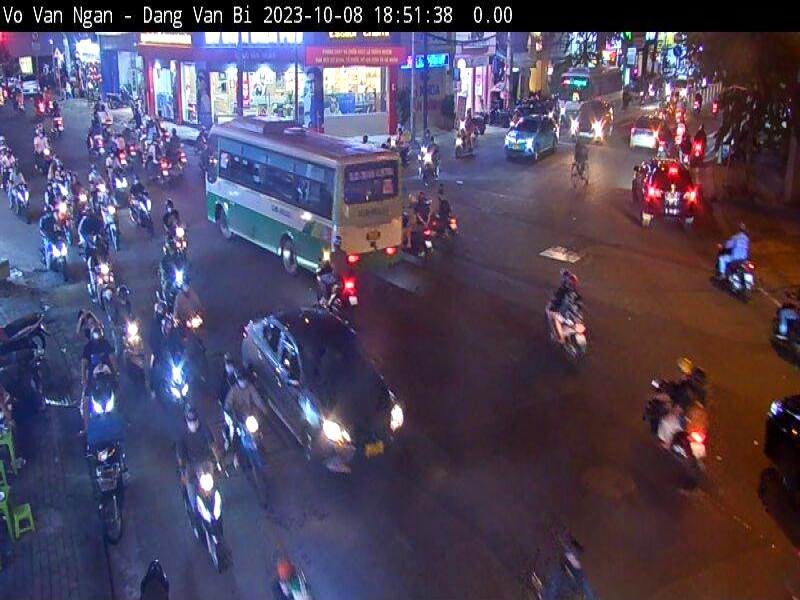bus: (197, 116, 404, 284)
car: (239, 309, 417, 480), (626, 154, 704, 238), (761, 390, 800, 514), (500, 111, 560, 165), (571, 99, 616, 143), (628, 112, 674, 152)
motorcycle: (631, 365, 711, 490), (174, 442, 230, 576), (86, 435, 136, 552), (222, 406, 276, 506), (538, 292, 588, 375), (710, 234, 756, 310), (82, 371, 128, 437), (154, 347, 196, 409)
